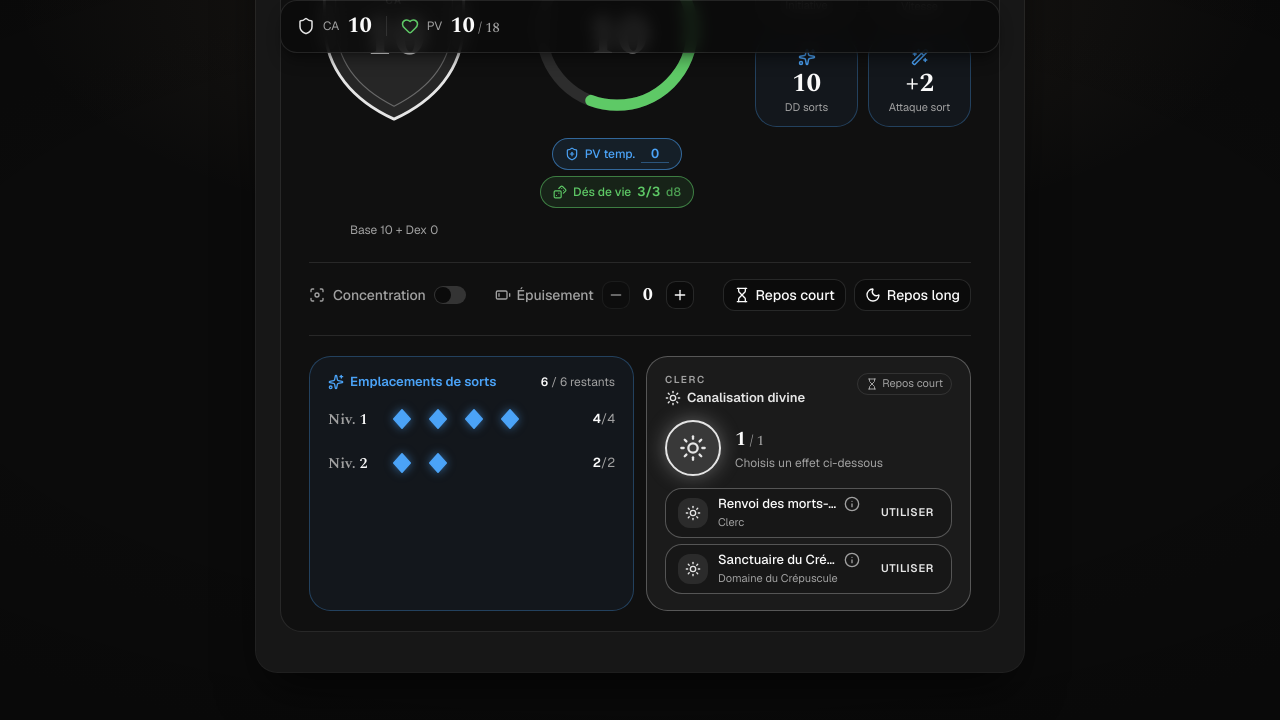
Test case: PlayDetailSheet (via CharacterPlay) › opens a Channel Divinity option: row shows details, its button spends the pool
The width and height of the screenshot is (1280, 720).
(page scrolled)
// Option des règles sans texte propre : la description vient de la capacité de même nom.
Step 1. Click the button named "Détails : Sanctuaire du Crépuscule" → x=808, y=569, box [666,545,951,593]
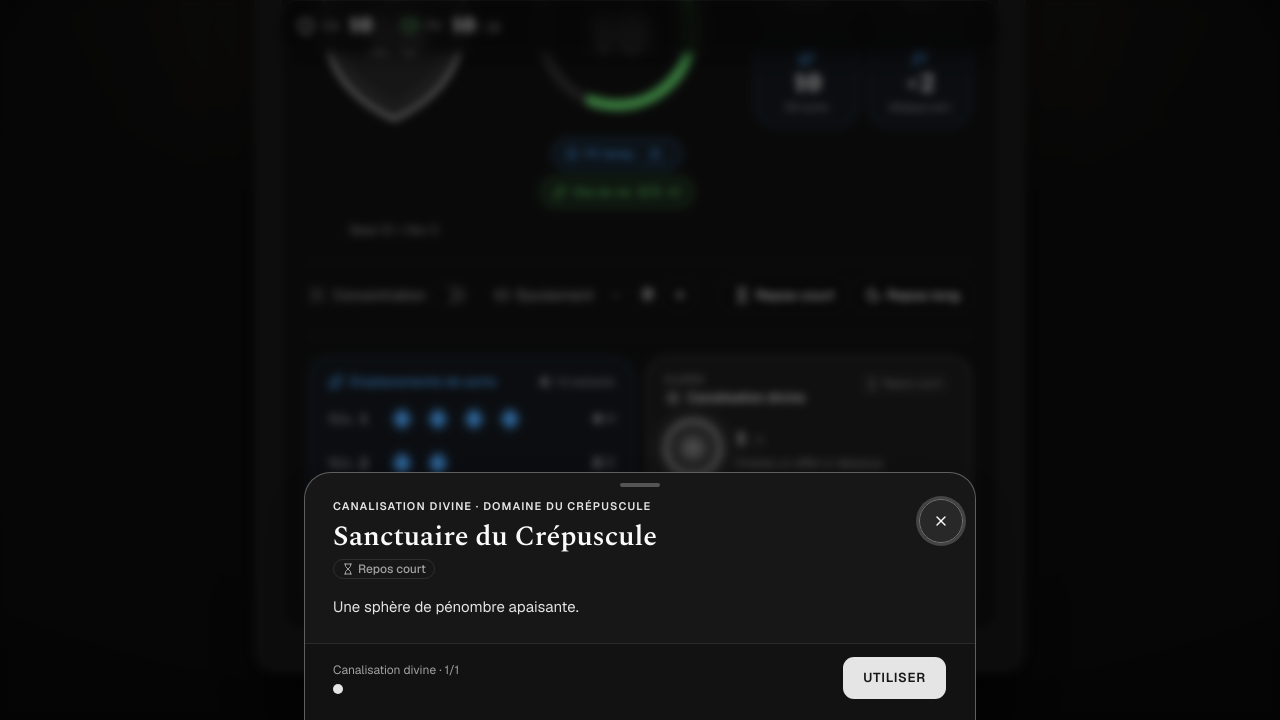
Result: the text "Une sphère de pénombre apaisante." is shown at [333,597,579,616]
Result: the text "Canalisation divine · 1/1" is shown at [333,662,459,678]
Step 2. Click the button with aria-label "Utiliser Sanctuaire du Crépuscule" → x=895, y=678, box [842,656,947,700]
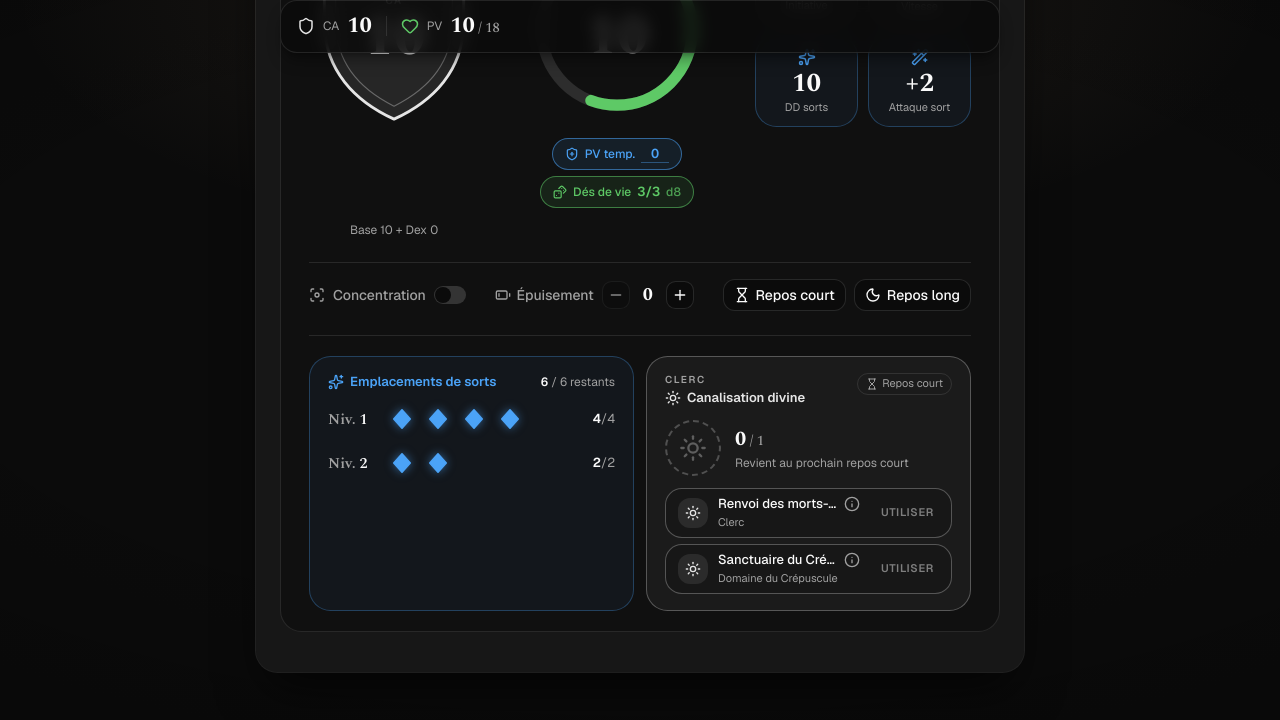
// Option des règles sans capacité de même nom : invitation à en créer une.
Step 3. Click the button named "Détails : Renvoi des morts-vivants" → x=808, y=513, box [666,489,951,537]
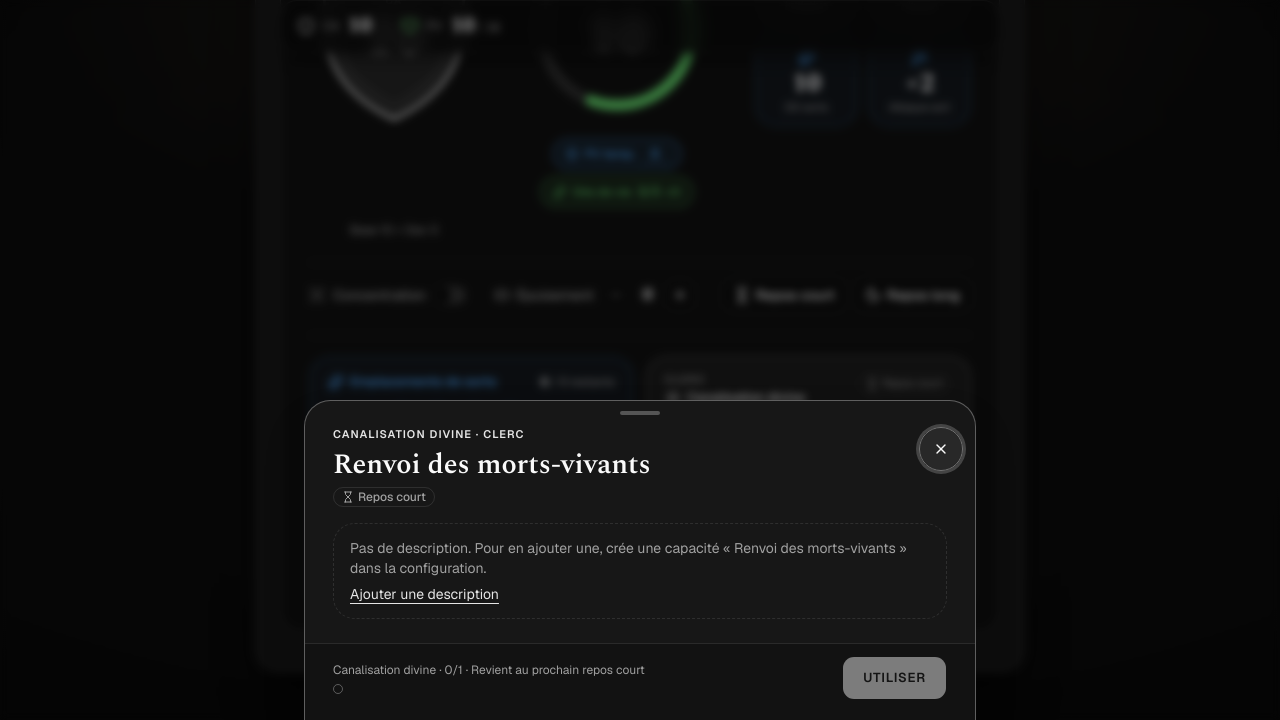
Result: the text "crée une capacité « Renvoi des morts-vivants »" is shown at [350,539,907,577]
Result: the button with aria-label "Utiliser Renvoi des morts-vivants" is disabled at [842,656,947,700]
